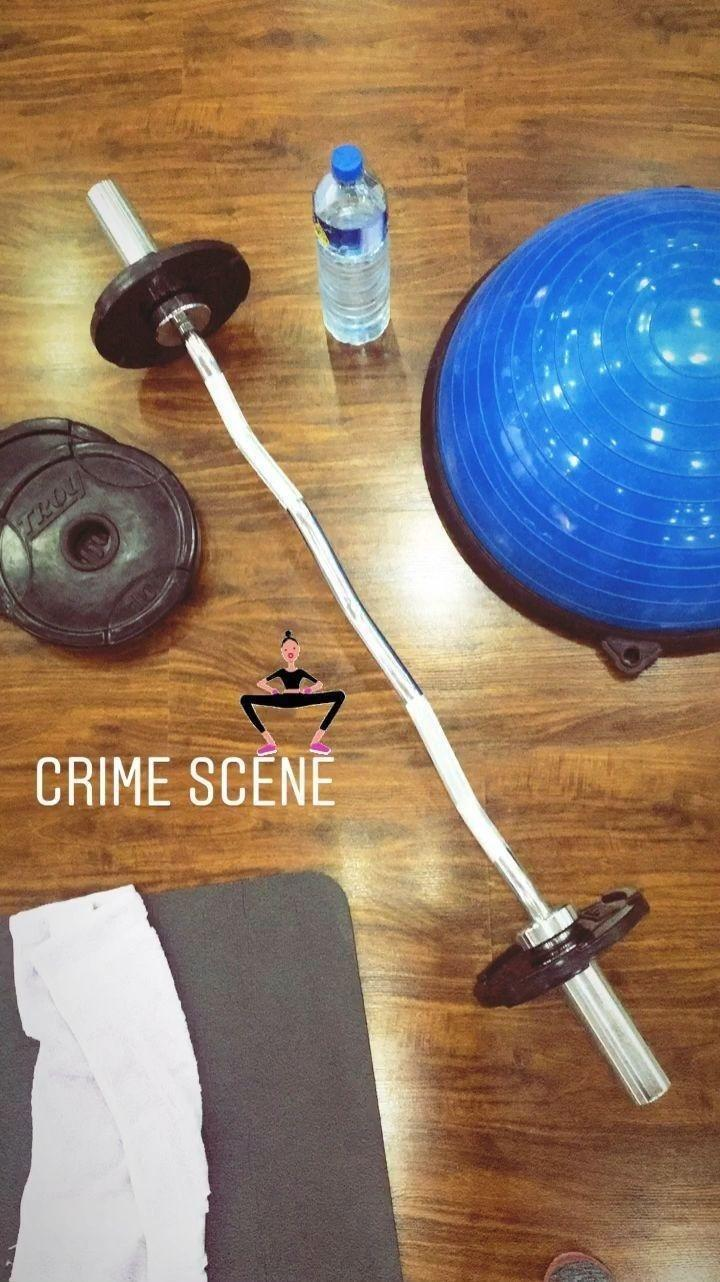bottle-plastic: (308, 143, 394, 350)
